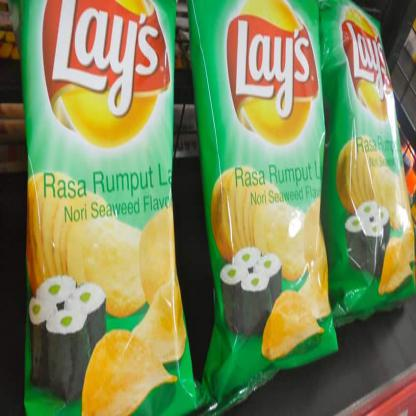potatochip: (14, 0, 214, 415), (182, 0, 343, 415), (311, 0, 416, 340)
